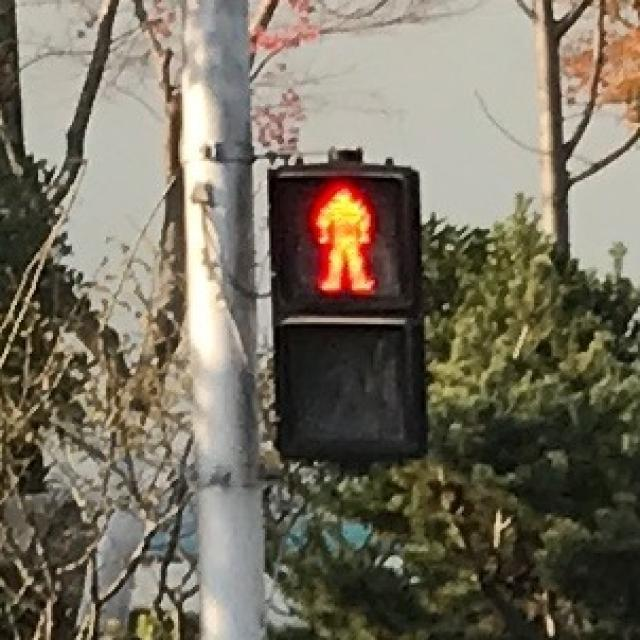red-crossing: (276, 168, 410, 312)
